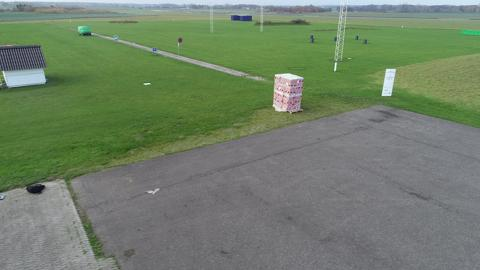RockwoolPallet: (272, 72, 305, 113)
